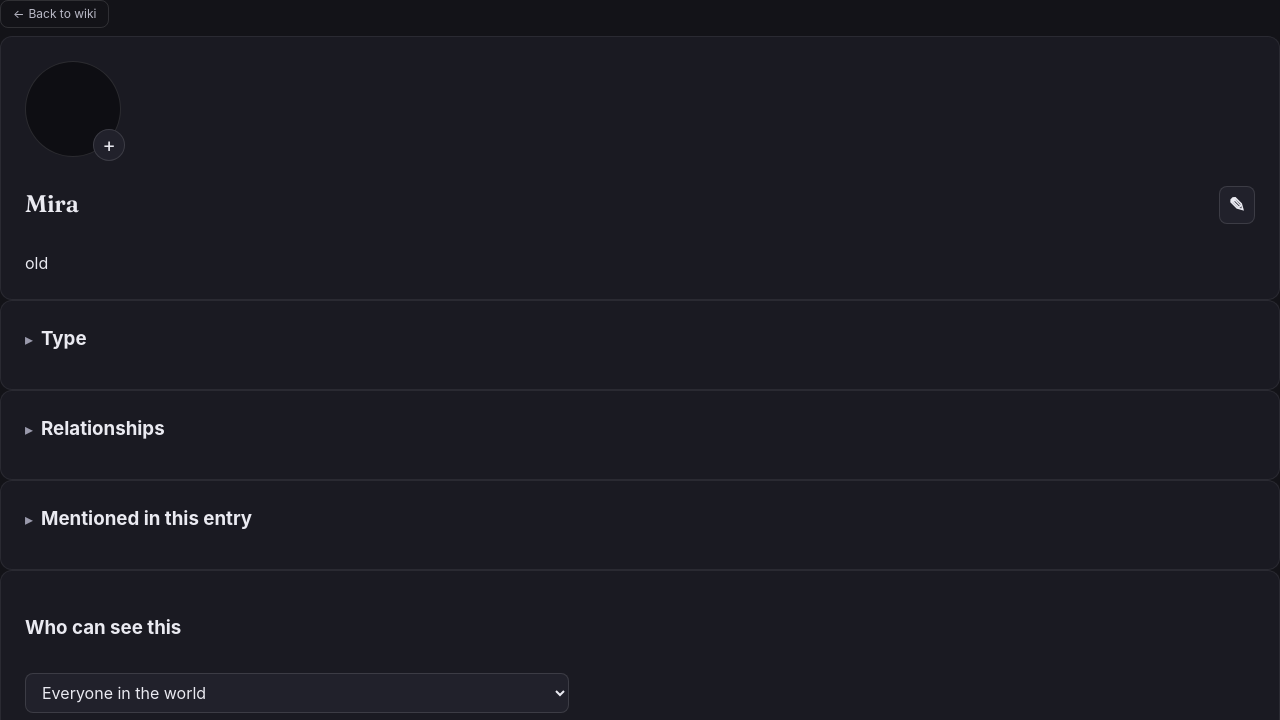
it: EntityDetailPage › edits, saves, and deletes a loaded entity
The width and height of the screenshot is (1280, 720).
Step 1. Click the button named "Edit entity" → x=1237, y=205, box [1219, 186, 1255, 224]
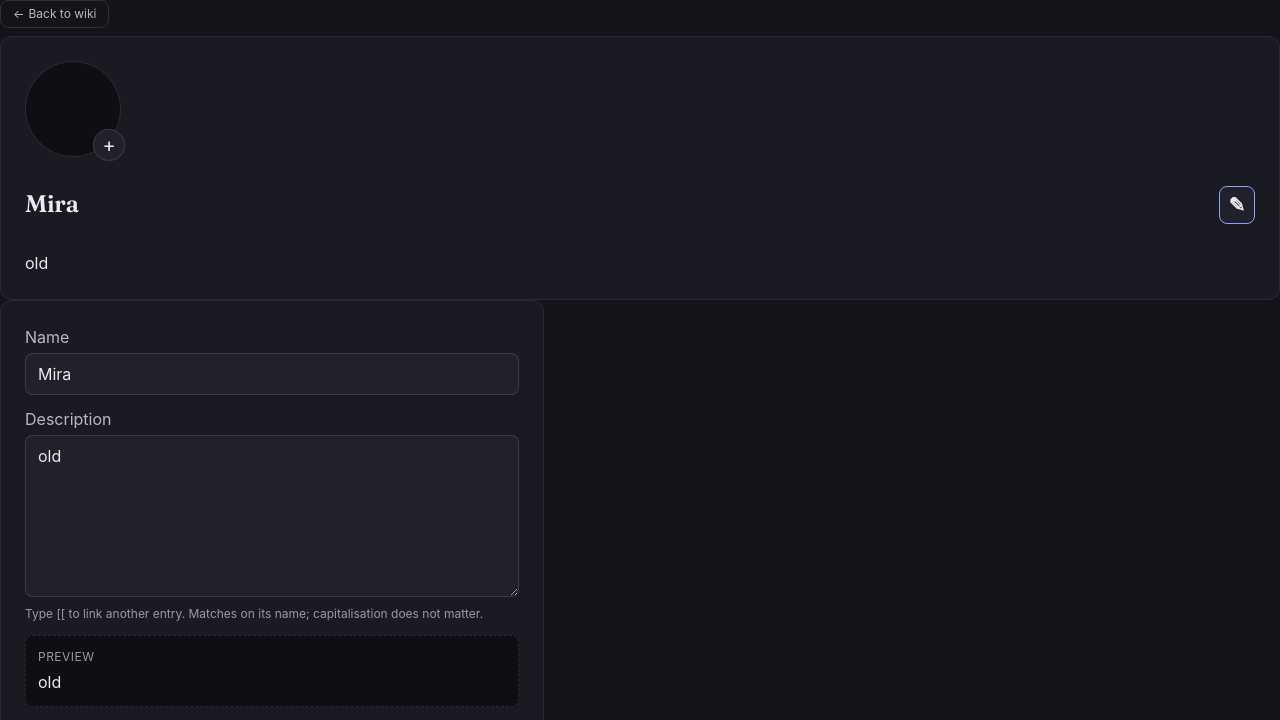
Expected: the heading "Mira" is shown, [25, 189, 79, 219]
Step 2. Replace the text in the field labelled "Name" with "Mira II" → x=272, y=374, box [25, 353, 519, 395]
(page scrolled)
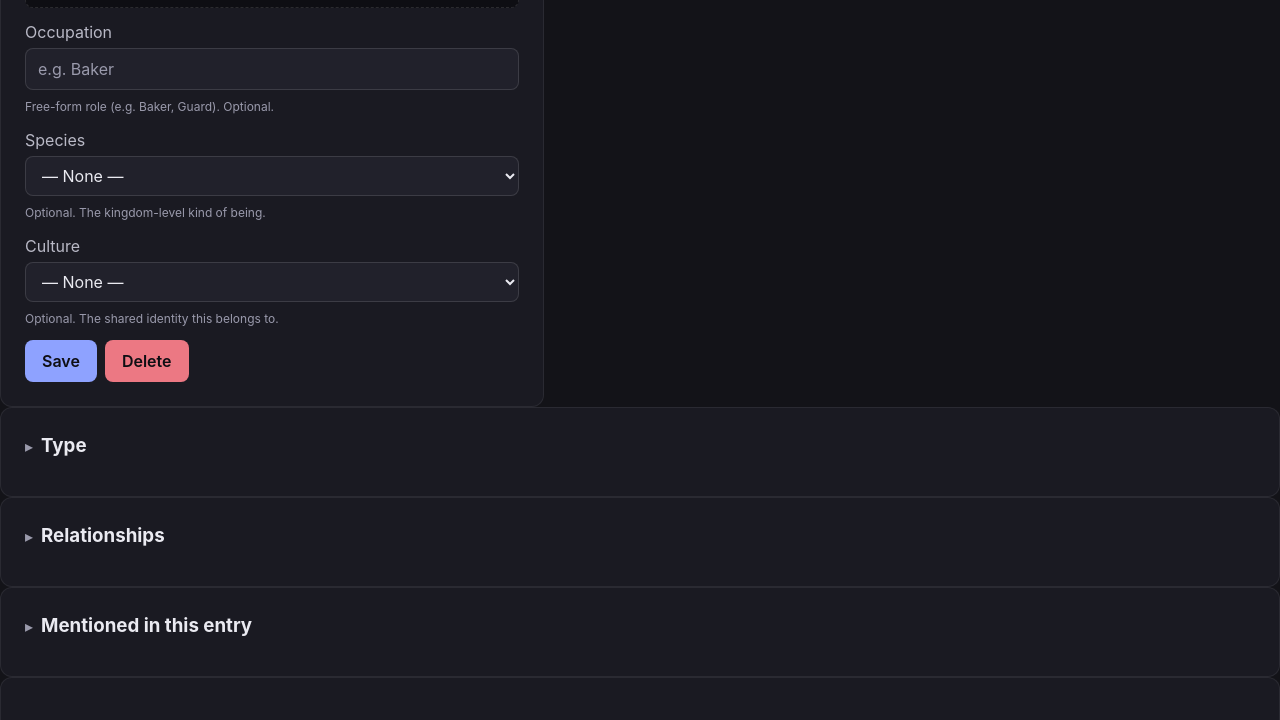
Step 3. Click the button "Save" → x=61, y=361, box [25, 340, 97, 382]
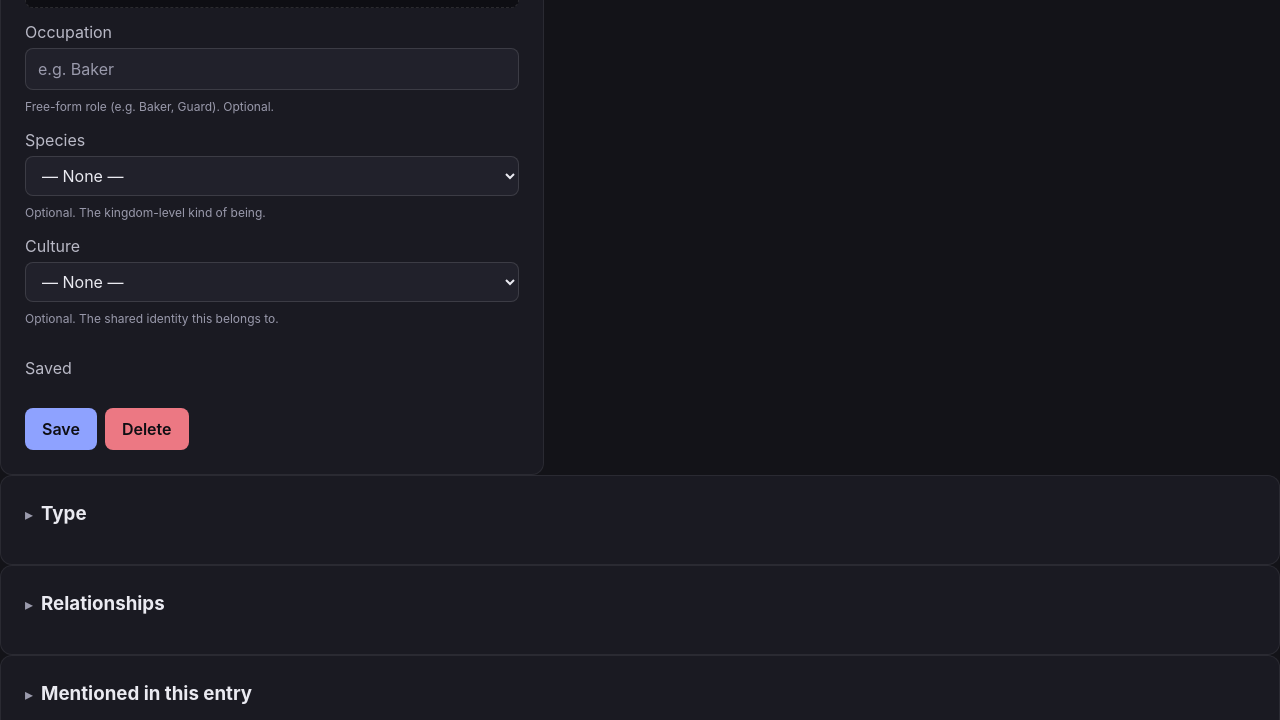
Expected: the text "Saved" is shown, [25, 356, 72, 380]
Step 4. Click the button "Delete" → x=147, y=429, box [105, 408, 188, 450]
(page scrolled)
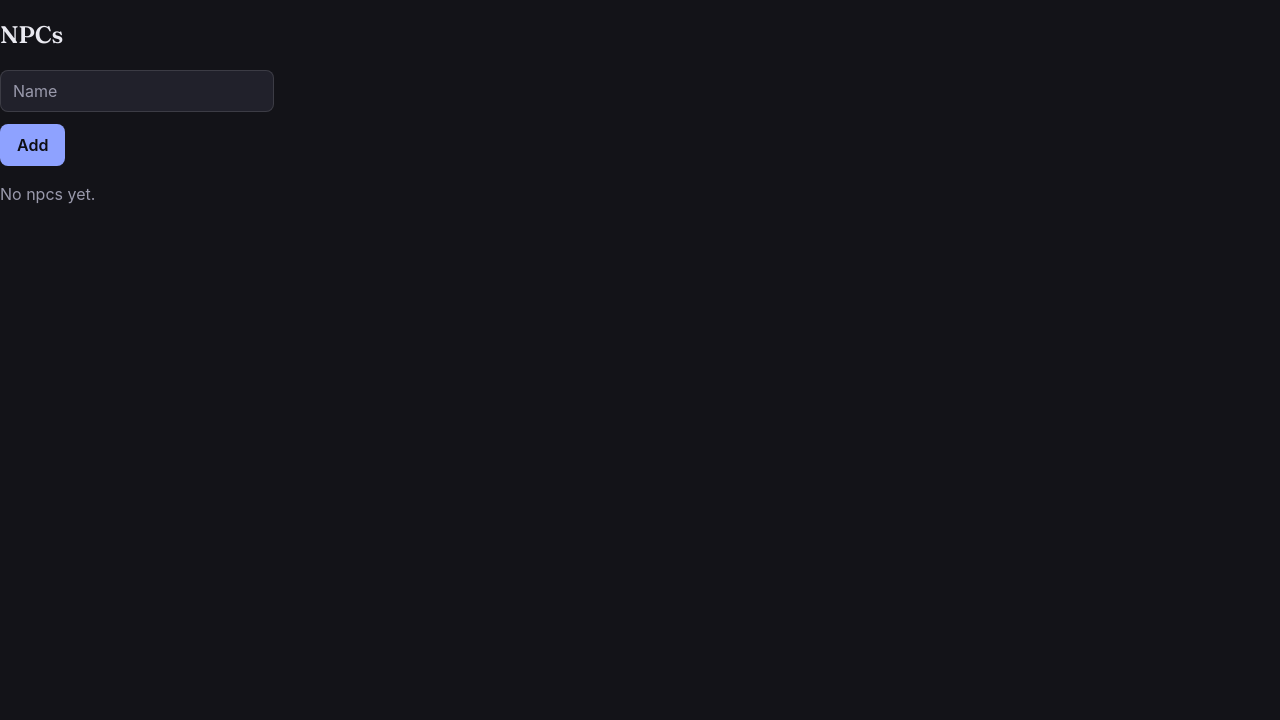
Expected: the heading "NPCs" is shown, [0, 20, 63, 50]
